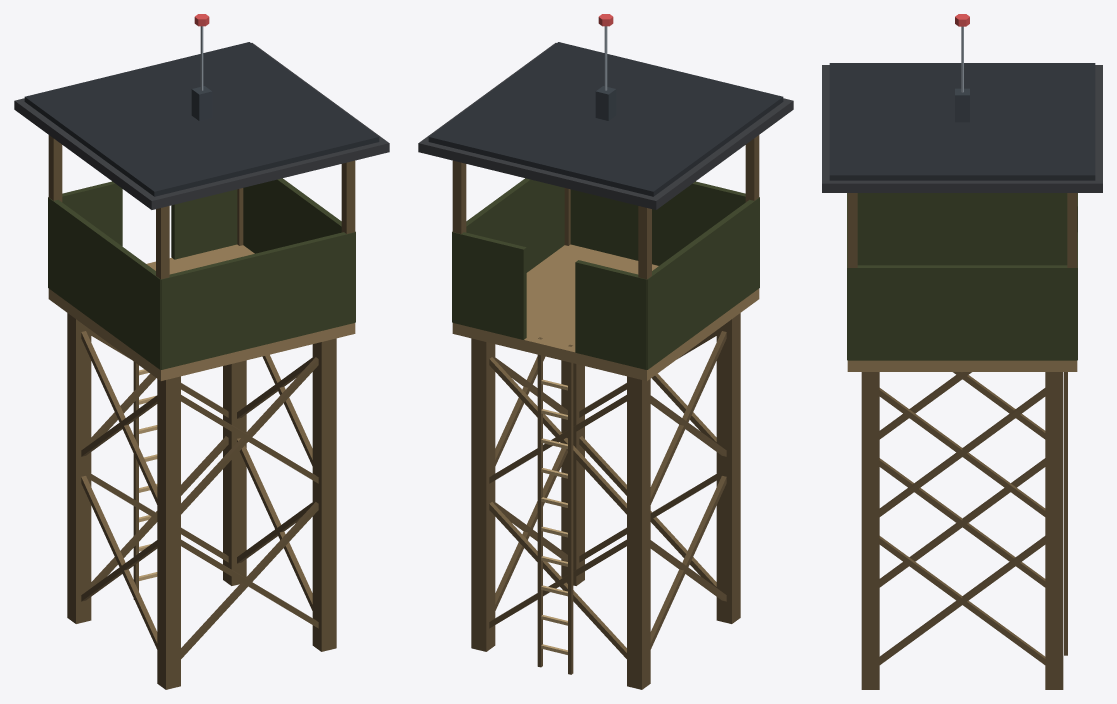
File: env_guard_tower.fbx
The picture shows the model from 3 angles, left to right: view 1: azimuth 30°, elevation 25°; view 2: azimuth 150°, elevation 25°; view 3: azimuth 270°, elevation 25°; orthographic projection. The views are drawn at different scales.
Visible parts, largest first — view 1: env_guard_tower; view 2: env_guard_tower; view 3: env_guard_tower.
Boxes of the visible parts, <box> form: env_guard_tower: <box>14,14,389,689</box>; env_guard_tower: <box>418,14,793,689</box>; env_guard_tower: <box>822,14,1102,689</box>.
Size of the model in its own units: 1100 by 2725 by 1100.
